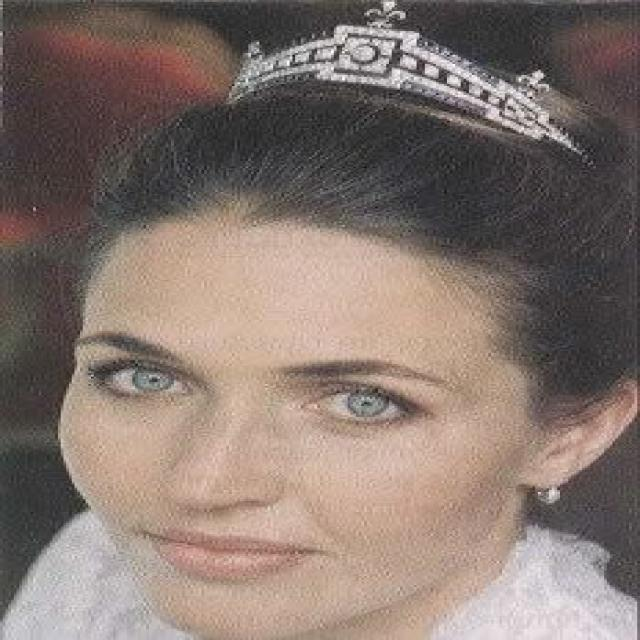Earring: (532, 473, 585, 516)
